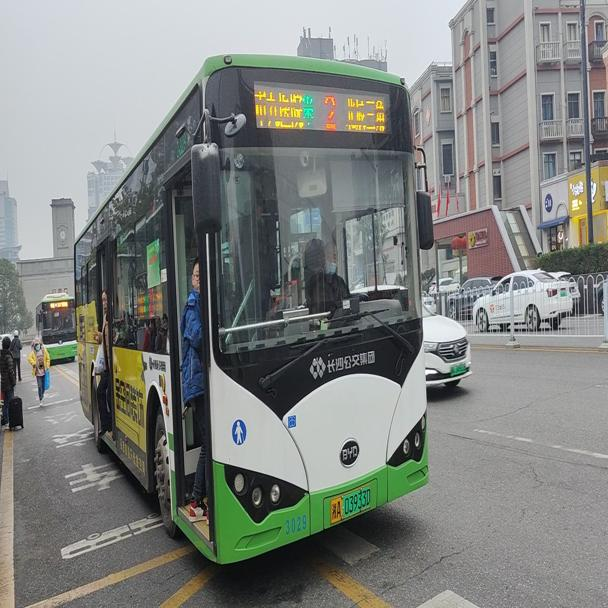bus: (72, 47, 432, 562), (33, 292, 76, 360)
screen: (317, 85, 340, 132)
